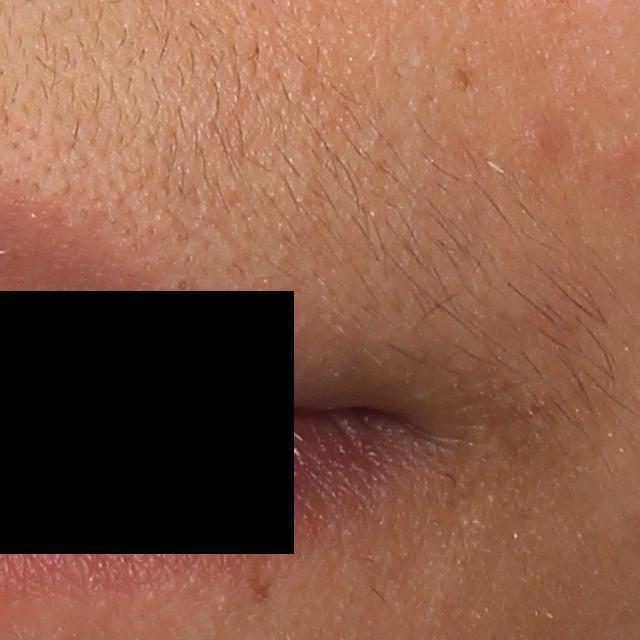nevus: (248, 572, 275, 604), (452, 64, 474, 91)
papule: (517, 111, 578, 167)
